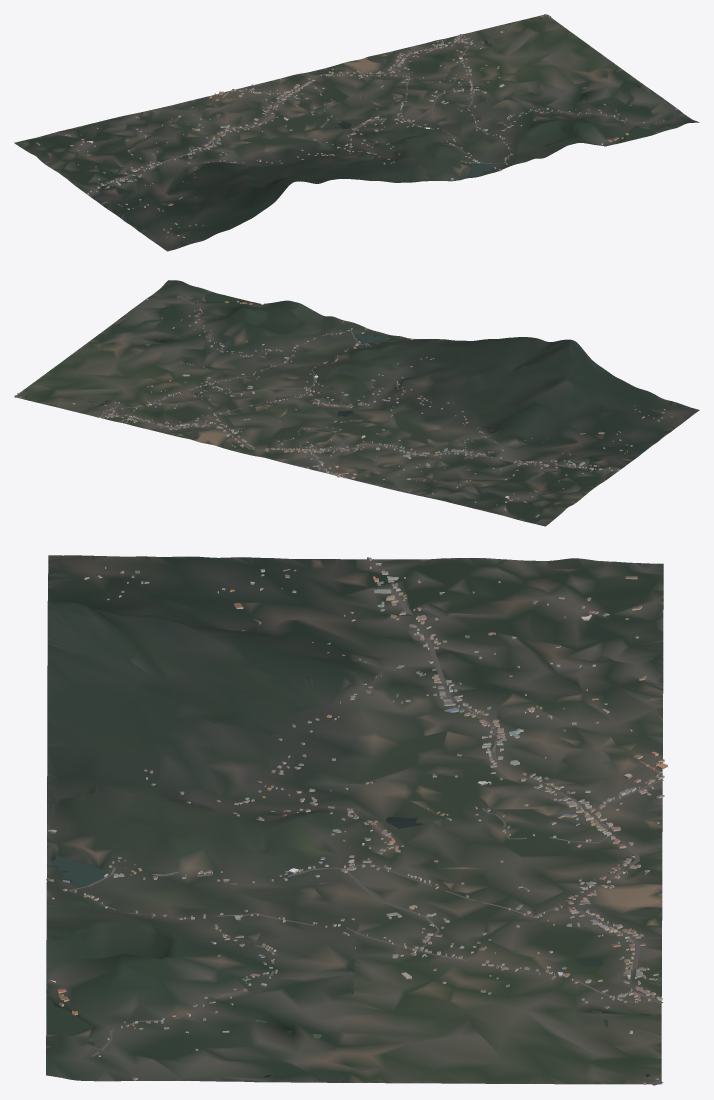
The picture shows the model from 3 angles, top to bottom: view 1: azimuth 30°, elevation 25°; view 2: azimuth 150°, elevation 25°; view 3: azimuth 270°, elevation 25°; orthographic projection. The views are drawn at different scales.
Visible parts, largest first — view 1: ground, buildings, roads, water; view 2: ground, buildings, roads, water; view 3: ground, buildings, roads, water.
Boxes of the visible parts, bbox=[...] form: ground: bbox=[14, 14, 699, 251]; buildings: bbox=[35, 15, 677, 237]; roads: bbox=[111, 14, 665, 183]; water: bbox=[337, 18, 653, 177]; ground: bbox=[14, 280, 699, 526]; buildings: bbox=[17, 296, 672, 517]; roads: bbox=[14, 295, 582, 472]; water: bbox=[25, 293, 394, 417]; ground: bbox=[46, 555, 663, 1084]; buildings: bbox=[46, 557, 667, 1084]; roads: bbox=[68, 559, 663, 1085]; water: bbox=[46, 817, 651, 1077].
Bounding box in the file's own units: 5618 × 443 × 2833.
